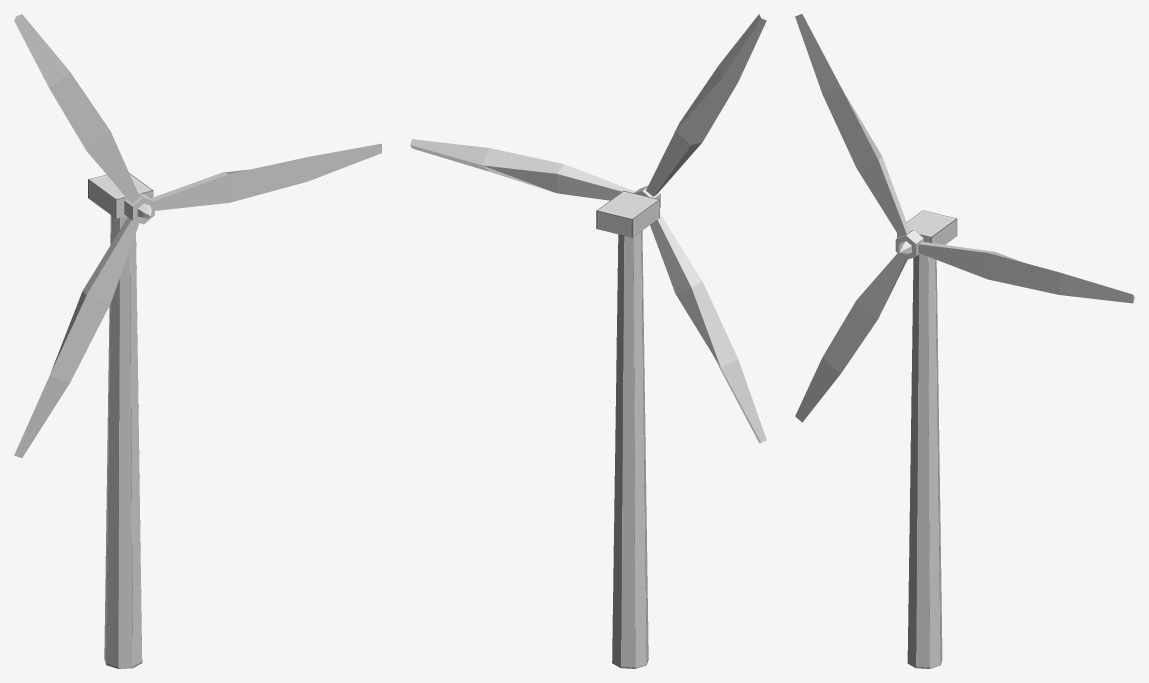
File: Windmill-02.fbx
3 renders of one model, left to right at view 1: azimuth 30°, elevation 25°; view 2: azimuth 150°, elevation 25°; view 3: azimuth 330°, elevation 25°, orthographic. The views are drawn at different scales.
Parts seen in each view (by area): view 1: Windmill_02_Blades, Windmill_02; view 2: Windmill_02, Windmill_02_Blades; view 3: Windmill_02_Blades, Windmill_02.
Part boxes in pixels (bbox=[...]): Windmill_02_Blades: bbox=[14, 14, 381, 457]; Windmill_02: bbox=[88, 173, 153, 668]; Windmill_02: bbox=[596, 191, 659, 668]; Windmill_02_Blades: bbox=[410, 14, 766, 442]; Windmill_02_Blades: bbox=[795, 14, 1134, 422]; Windmill_02: bbox=[897, 210, 957, 668].
Size of the model in its own units: 5 by 8.92 by 1.04.
